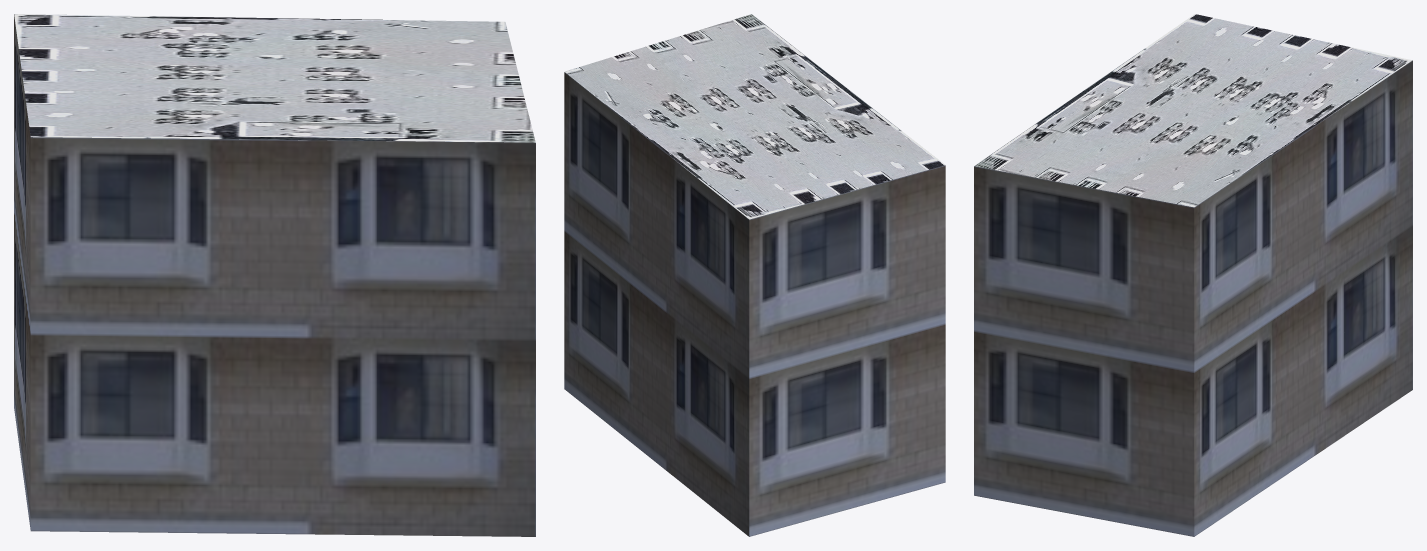
File: ResTex__2726.fbx
3 views of the same model, side by side, from view 1: azimuth 30°, elevation 25°; view 2: azimuth 150°, elevation 25°; view 3: azimuth 270°, elevation 25° (orthographic). The views are drawn at different scales.
Parts seen in each view (by area): view 1: CityEngineMaterial_3_m, CityEngineMaterial_4_m; view 2: CityEngineMaterial_3_m, CityEngineMaterial_4_m; view 3: CityEngineMaterial_3_m, CityEngineMaterial_4_m.
Part boxes in pixels (<box>): CityEngineMaterial_3_m: <box>14,14,535,536</box>; CityEngineMaterial_4_m: <box>14,14,535,142</box>; CityEngineMaterial_3_m: <box>564,72,945,536</box>; CityEngineMaterial_4_m: <box>564,14,945,219</box>; CityEngineMaterial_3_m: <box>974,60,1412,536</box>; CityEngineMaterial_4_m: <box>974,14,1412,207</box>.
Size of the model in its own units: 7.55 by 6 by 7.24.
2 materials, 2 textured.
